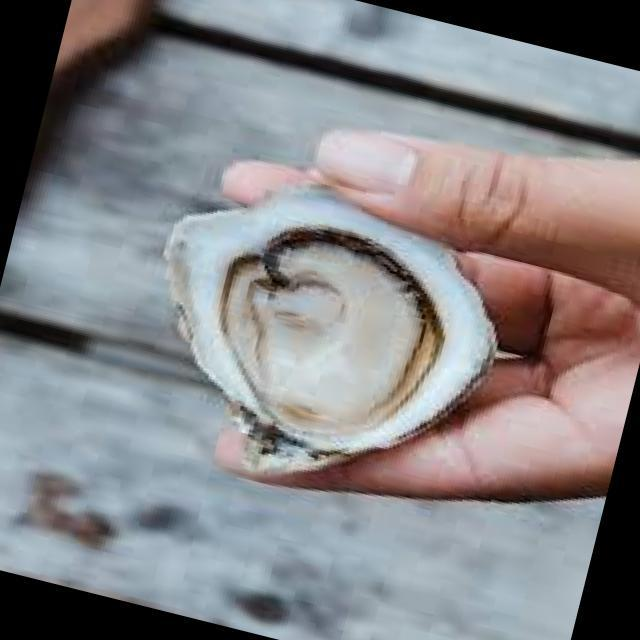Oyster-Open: (165, 189, 496, 473)
